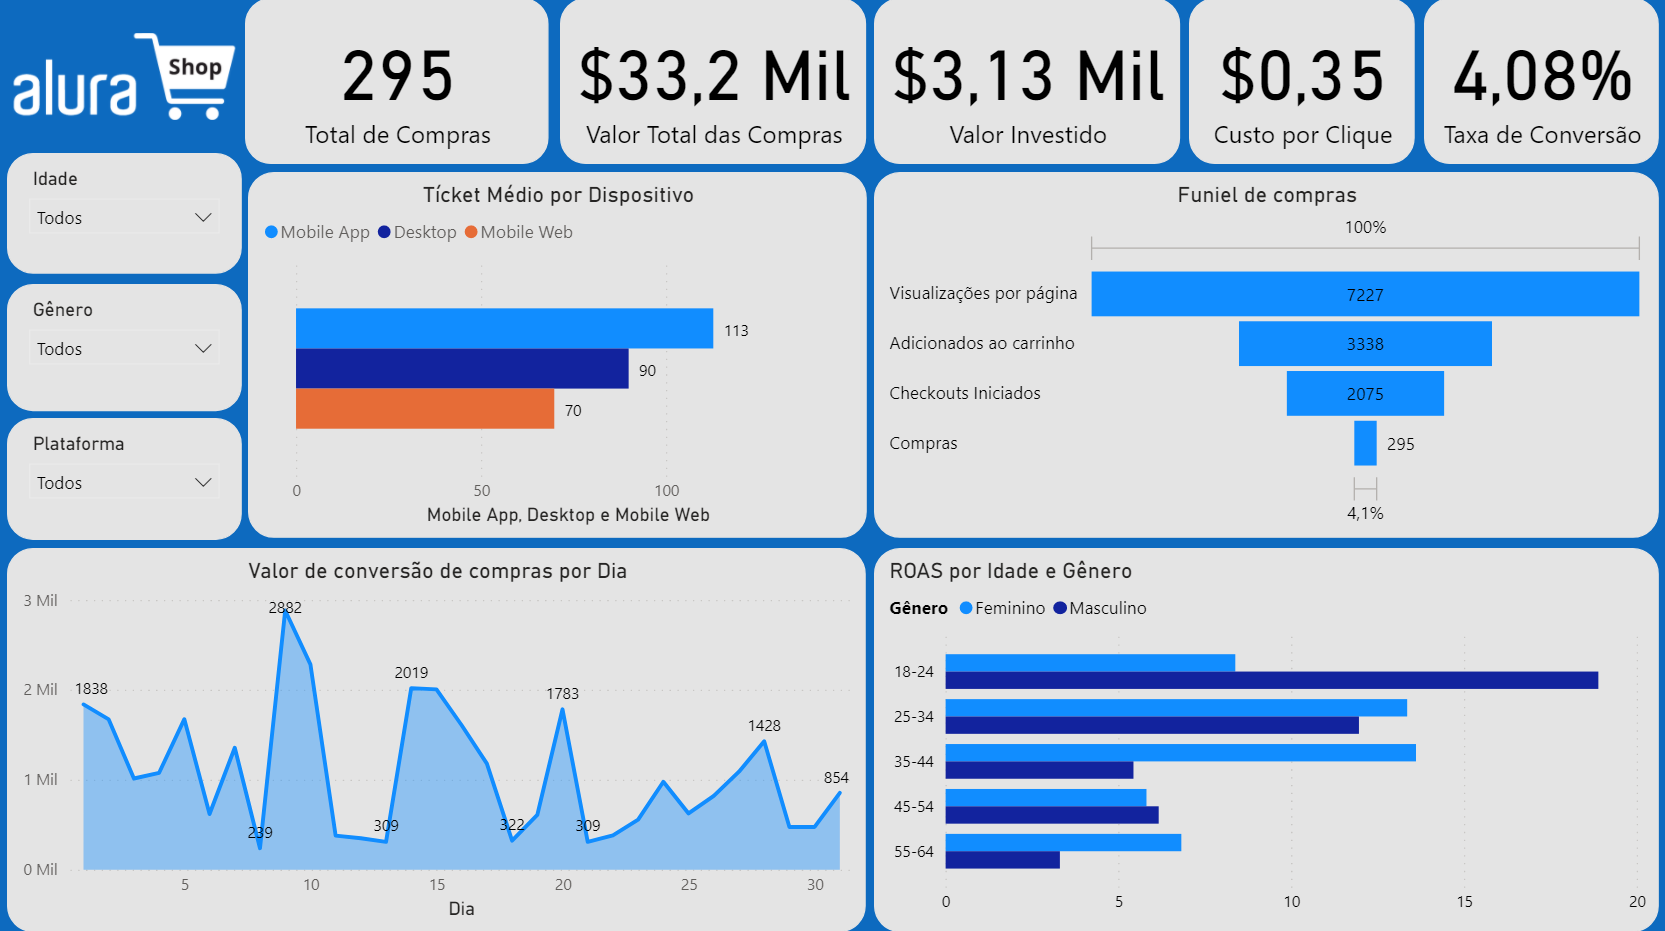

The dashboard page shown, as its layout file describes it:
{"tool":"powerbi","page":{"name":"Página 1","canvas":[1280,720],"ordinal":0},"visuals":[{"type":"card","fields":{"Values":["Tabela_idade_e_genero.Total de Compras"]},"box":[11.7,15.4,190.6,127.4],"z":0},{"type":"card","fields":{"Values":["Tabela_idade_e_genero.Valor Total das Compras"]},"box":[21.7,142.7,180.7,163.5],"z":1000},{"type":"card","fields":{"Values":["Tabela_idade_e_genero.Valor Investido"]},"box":[202.3,15.4,224,127.4],"z":2000},{"type":"card","fields":{"Values":["Tabela_idade_e_genero.Custo por Clique"]},"box":[202.3,150,224,156.3],"z":3000},{"type":"funnel","fields":{"Y":["Sum(Tabela_idade_e_genero.Visualizações por página)","Sum(Tabela_idade_e_genero.Adicionados ao carrinho)","Sum(Tabela_idade_e_genero.Checkouts Iniciados)","Sum(Tabela_idade_e_genero.Compras)"]},"box":[426.4,35.2,409.2,264.7],"z":4000},{"type":"card","fields":{"Values":["Tabela_idade_e_genero.Taxa de Conversão"]},"box":[21.7,306.2,180.7,166.2],"z":5000},{"type":"areaChart","fields":{"Category":["Tabela_idade_e_genero.Dia.Variation.Hierarquia de datas.Dia"],"Y":["Sum(Tabela_idade_e_genero.Valor de conversão de compras)"]},"box":[262,328.8,573.6,264.7],"z":6000},{"type":"clusteredBarChart","fields":{"Y":["Tabela_dispositivos.Ticket Médio"],"Category":["Tabela_dispositivos.Plataforma do dispositivo"]},"box":[835.4,2.7,408.4,325.8],"z":6001},{"type":"clusteredColumnChart","fields":{"Y":["Tabela_idade_e_genero.ROAS"],"Category":["Tabela_idade_e_genero.Idade"],"Series":["Tabela_idade_e_genero.Gênero"]},"box":[848.7,340,362.2,312.5],"z":6002}]}

Visuals, with their boxes in screenshot pixels (x1, y1, x2, y2), scaled from the page's 1280x720 canvas onto the 1665x931 screenshot:
card - Tabela_idade_e_genero.Total de Compras: 15 20 263 185
card - Tabela_idade_e_genero.Valor Total das Compras: 28 185 263 396
card - Tabela_idade_e_genero.Valor Investido: 263 20 555 185
card - Tabela_idade_e_genero.Custo por Clique: 263 194 555 396
funnel - Sum(Tabela_idade_e_genero.Visualizações por página) x Sum(Tabela_idade_e_genero.Adicionados ao carrinho): 555 46 1087 388
card - Tabela_idade_e_genero.Taxa de Conversão: 28 396 263 611
areaChart - Tabela_idade_e_genero.Dia.Variation.Hierarquia de datas.Dia x Sum(Tabela_idade_e_genero.Valor de conversão de compras): 341 425 1087 767
clusteredBarChart - Tabela_dispositivos.Ticket Médio x Tabela_dispositivos.Plataforma do dispositivo: 1087 3 1618 425
clusteredColumnChart - Tabela_idade_e_genero.ROAS x Tabela_idade_e_genero.Idade: 1104 440 1575 844
